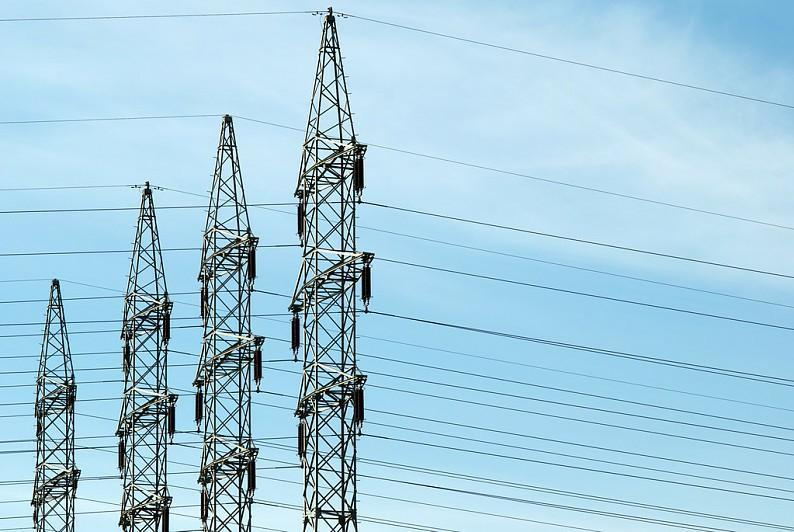power_tower: (280, 2, 388, 532), (192, 111, 280, 523), (112, 173, 185, 532), (25, 271, 85, 532)
